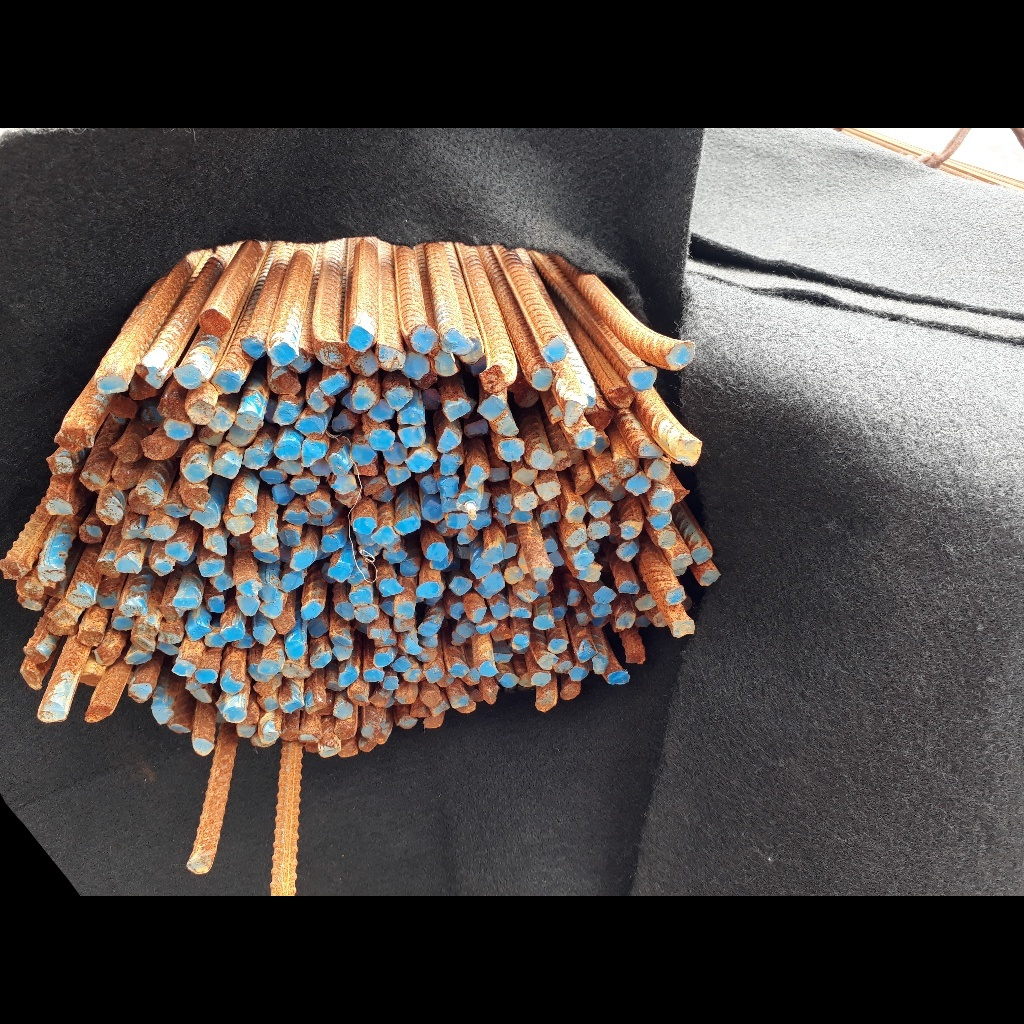dipstick: (315, 339, 351, 369), (54, 427, 93, 454), (198, 308, 232, 336), (666, 341, 696, 370), (299, 437, 327, 468), (476, 394, 508, 421), (105, 392, 137, 419), (133, 364, 167, 389), (347, 323, 375, 352), (477, 366, 507, 393), (295, 413, 326, 439), (186, 399, 217, 425), (348, 351, 380, 376), (45, 612, 77, 637), (375, 344, 404, 371), (137, 479, 166, 506), (144, 432, 171, 461), (190, 503, 221, 528), (162, 416, 193, 441), (210, 370, 242, 394), (320, 372, 349, 398), (627, 365, 657, 390), (383, 386, 414, 410), (43, 496, 75, 519), (675, 439, 702, 466), (268, 369, 297, 394), (173, 364, 202, 389), (182, 484, 211, 509), (405, 448, 435, 472), (127, 376, 158, 399), (498, 437, 525, 463), (432, 351, 460, 376), (439, 329, 468, 353), (350, 386, 379, 410), (272, 401, 301, 425), (327, 472, 358, 494), (529, 366, 555, 392), (435, 427, 461, 453), (403, 353, 429, 379), (541, 338, 568, 363), (94, 502, 122, 526), (584, 408, 614, 430), (270, 342, 296, 367), (208, 407, 233, 433), (1, 557, 27, 582), (212, 456, 239, 480), (109, 440, 139, 461), (368, 398, 394, 422), (326, 453, 352, 477), (624, 472, 651, 495), (444, 398, 471, 421), (183, 460, 210, 483), (16, 575, 43, 598), (397, 426, 425, 448), (464, 464, 489, 488), (328, 559, 352, 584), (329, 635, 353, 660), (252, 532, 282, 552), (275, 437, 301, 460), (240, 337, 266, 360), (158, 622, 184, 645), (461, 336, 483, 363), (198, 424, 225, 446), (228, 497, 259, 516), (385, 465, 413, 486), (226, 515, 255, 535), (318, 733, 342, 757), (243, 445, 267, 469), (288, 348, 312, 372), (143, 522, 175, 540), (128, 490, 152, 514), (122, 515, 146, 539), (308, 389, 333, 412), (644, 459, 671, 480), (369, 429, 396, 450), (38, 702, 65, 723), (650, 489, 675, 511), (448, 574, 473, 596), (343, 392, 368, 414), (304, 689, 326, 714), (273, 613, 298, 635), (562, 396, 588, 417), (455, 492, 481, 513), (81, 470, 107, 491), (96, 558, 122, 579), (512, 583, 539, 603), (512, 490, 539, 510), (397, 407, 427, 425), (198, 558, 225, 578), (38, 563, 65, 583), (337, 664, 360, 687), (21, 667, 44, 690), (573, 428, 597, 450), (422, 500, 444, 524), (384, 443, 408, 465), (397, 632, 421, 654), (332, 410, 356, 432), (288, 549, 312, 571), (514, 386, 539, 407), (220, 672, 245, 693), (130, 633, 156, 653), (535, 482, 562, 501), (371, 527, 398, 546), (235, 410, 262, 429), (114, 555, 141, 574), (85, 704, 112, 723), (76, 628, 103, 647), (97, 375, 129, 391), (563, 526, 586, 548), (438, 453, 461, 475), (483, 570, 505, 593), (272, 482, 295, 504), (205, 534, 227, 557), (257, 720, 279, 743), (160, 397, 183, 419), (284, 639, 308, 660), (253, 677, 281, 695), (192, 736, 216, 757), (113, 469, 137, 490), (45, 456, 73, 474), (15, 594, 43, 612), (280, 572, 305, 592), (77, 524, 102, 544), (306, 495, 332, 514), (292, 477, 319, 495), (310, 509, 337, 527), (589, 435, 611, 457), (279, 527, 301, 549), (530, 448, 553, 469), (253, 624, 276, 645), (150, 703, 173, 724), (609, 388, 633, 408), (279, 693, 303, 713), (203, 628, 227, 648), (149, 554, 173, 574), (128, 683, 152, 703), (586, 522, 611, 541), (335, 488, 360, 507), (185, 620, 210, 639), (278, 459, 304, 477), (261, 467, 287, 485), (67, 589, 93, 607), (133, 620, 159, 638), (437, 477, 459, 498), (394, 681, 415, 703), (237, 594, 259, 615), (22, 645, 49, 662), (470, 559, 494, 578), (425, 542, 449, 561), (348, 587, 372, 606), (258, 658, 282, 677), (597, 473, 622, 491), (592, 586, 617, 604), (512, 469, 537, 487), (494, 418, 519, 436), (429, 552, 454, 570), (413, 369, 438, 387), (283, 507, 308, 525), (165, 542, 190, 560), (635, 443, 663, 459), (463, 420, 489, 437), (445, 512, 471, 529), (564, 502, 585, 523), (334, 600, 355, 621), (307, 617, 328, 638), (691, 546, 713, 566), (615, 542, 637, 562), (548, 451, 570, 471), (482, 546, 504, 566), (535, 692, 555, 714), (354, 604, 376, 624), (613, 459, 636, 478), (571, 551, 594, 570), (578, 563, 601, 582), (469, 511, 492, 530), (334, 697, 353, 720), (260, 598, 283, 617), (172, 595, 201, 610), (648, 512, 672, 530), (416, 581, 440, 599), (394, 516, 418, 534), (381, 548, 408, 564), (94, 647, 118, 665), (664, 585, 685, 605), (575, 642, 596, 662), (311, 456, 332, 476), (253, 547, 281, 562), (248, 662, 269, 682), (325, 673, 347, 692), (264, 567, 283, 589), (173, 658, 195, 677), (116, 603, 142, 619), (672, 620, 695, 638), (588, 500, 612, 517), (491, 624, 515, 641), (162, 500, 186, 517), (190, 687, 214, 704), (420, 475, 440, 495), (194, 668, 219, 684), (573, 476, 594, 495), (559, 682, 580, 701), (510, 634, 531, 653), (537, 651, 558, 670), (394, 601, 415, 620), (335, 720, 356, 739), (339, 738, 360, 757), (487, 464, 509, 482), (309, 651, 331, 669), (223, 624, 245, 642), (698, 569, 721, 586), (531, 563, 554, 580), (375, 631, 398, 648), (352, 518, 376, 534), (391, 616, 415, 632), (110, 615, 134, 631), (615, 611, 635, 630), (480, 684, 500, 703), (410, 698, 430, 717), (320, 534, 340, 553), (141, 405, 160, 425), (97, 592, 118, 610), (434, 520, 456, 537), (301, 601, 323, 618), (188, 858, 210, 875), (363, 478, 386, 494), (224, 707, 247, 723), (626, 647, 646, 665), (591, 653, 609, 673), (497, 493, 515, 513), (378, 579, 399, 596), (620, 522, 642, 538), (590, 603, 612, 619), (607, 670, 629, 686), (503, 567, 525, 583), (373, 487, 395, 503), (258, 695, 280, 711), (509, 509, 534, 523), (634, 595, 657, 610), (348, 568, 371, 583), (362, 667, 385, 682), (282, 662, 305, 677), (490, 602, 509, 620), (463, 604, 482, 622), (479, 660, 498, 678), (398, 712, 417, 730), (351, 689, 370, 707), (540, 506, 560, 523), (423, 713, 443, 730), (423, 389, 440, 409), (547, 638, 568, 654), (497, 672, 518, 688), (390, 656, 411, 672), (212, 573, 233, 589), (448, 663, 470, 678), (297, 730, 319, 745), (658, 531, 677, 548), (475, 581, 494, 598), (424, 667, 443, 684), (422, 690, 441, 707), (399, 559, 418, 576), (207, 595, 226, 612), (669, 554, 692, 568), (230, 535, 253, 549), (157, 641, 180, 655), (582, 388, 598, 408), (494, 647, 514, 663), (618, 581, 639, 596), (567, 666, 588, 681), (554, 659, 575, 674), (438, 498, 459, 513), (236, 722, 257, 737), (79, 672, 100, 687), (167, 721, 191, 734), (532, 616, 554, 630), (417, 622, 439, 636), (257, 582, 275, 599), (373, 652, 393, 667), (356, 532, 376, 547), (448, 693, 469, 707), (462, 668, 479, 685), (249, 734, 273, 746), (511, 607, 533, 620), (367, 623, 386, 638), (531, 671, 551, 685), (455, 623, 475, 637), (356, 737, 376, 751), (175, 551, 195, 565), (473, 622, 498, 633), (414, 648, 435, 661), (359, 544, 380, 557), (672, 486, 689, 502), (379, 600, 395, 617), (536, 580, 554, 595), (566, 590, 581, 608), (363, 722, 381, 737), (569, 446, 583, 465), (381, 676, 400, 690), (435, 674, 455, 687), (403, 669, 423, 682), (494, 511, 511, 526), (449, 603, 464, 620), (503, 542, 517, 560), (235, 635, 253, 649), (518, 674, 537, 687), (430, 702, 449, 715), (420, 634, 439, 647), (610, 486, 626, 501), (574, 611, 590, 626), (542, 538, 558, 553), (548, 552, 564, 567), (455, 531, 471, 546), (548, 405, 562, 422), (458, 700, 476, 713), (279, 727, 297, 740), (479, 490, 490, 511), (517, 553, 529, 572), (550, 606, 566, 620), (469, 689, 485, 703), (450, 632, 466, 646), (653, 613, 669, 626), (636, 614, 650, 628), (585, 539, 599, 553), (458, 545, 470, 559), (425, 596, 441, 606), (217, 697, 225, 716), (185, 682, 199, 692), (674, 568, 687, 576)
